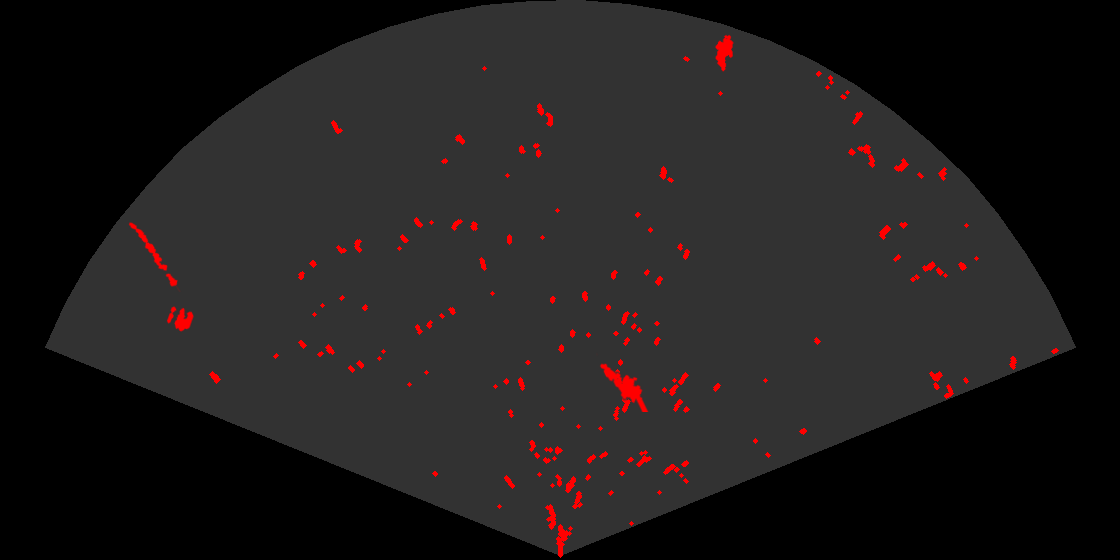AUV: (714, 33, 735, 73)
ball: (165, 305, 195, 333)
chain: (127, 221, 182, 292)
frogman: (596, 352, 650, 412)
